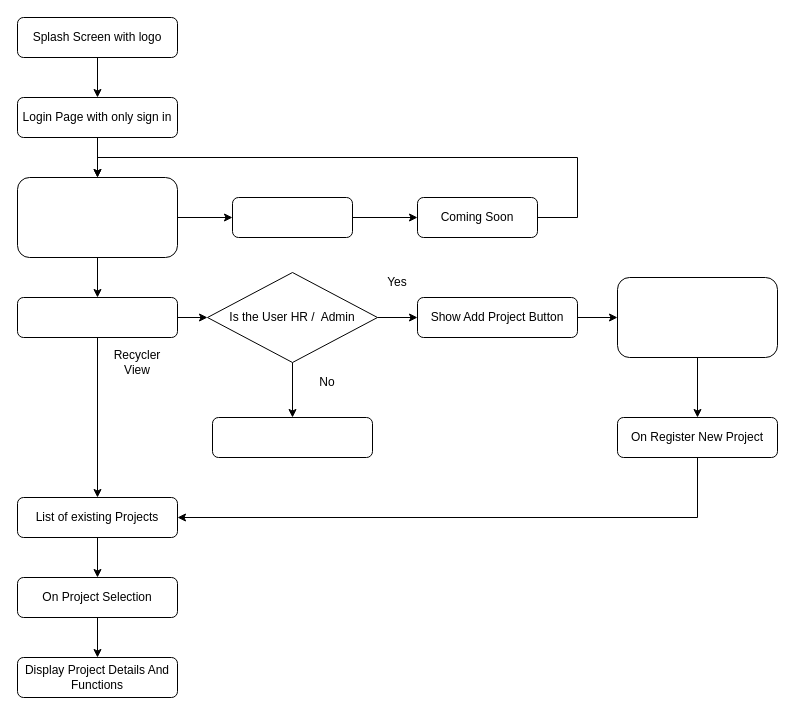
The diagram is 795 pixels wide and 715 high, and some of its shapes have lost their labels. The shapes that lost their labels are listed below. From the top down, each one's centre as x and y in pixels, then its label:
At pixel 97 217: "Project Tracker Complaint Tracker".
At pixel 292 217: "Complaint".
At pixel 97 317: "Project Tracker".
At pixel 697 317: "Add Projects (Project Name Site Location City)".
At pixel 292 437: "Hide Add Project Button".
